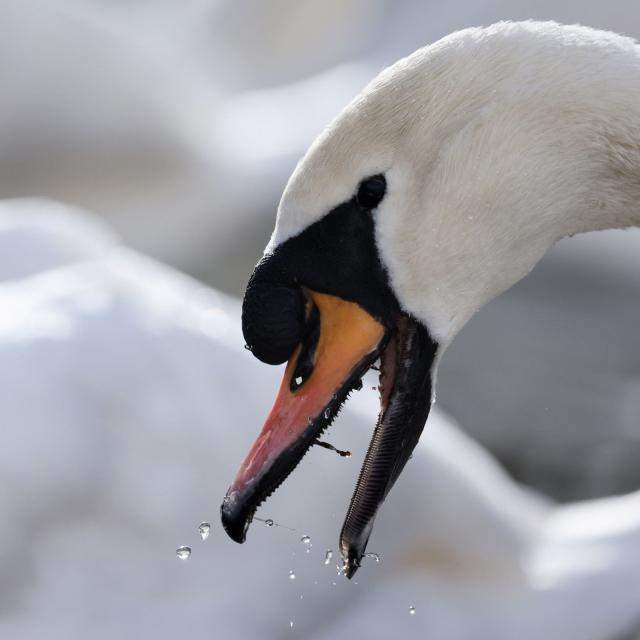swan: (221, 21, 640, 576)
